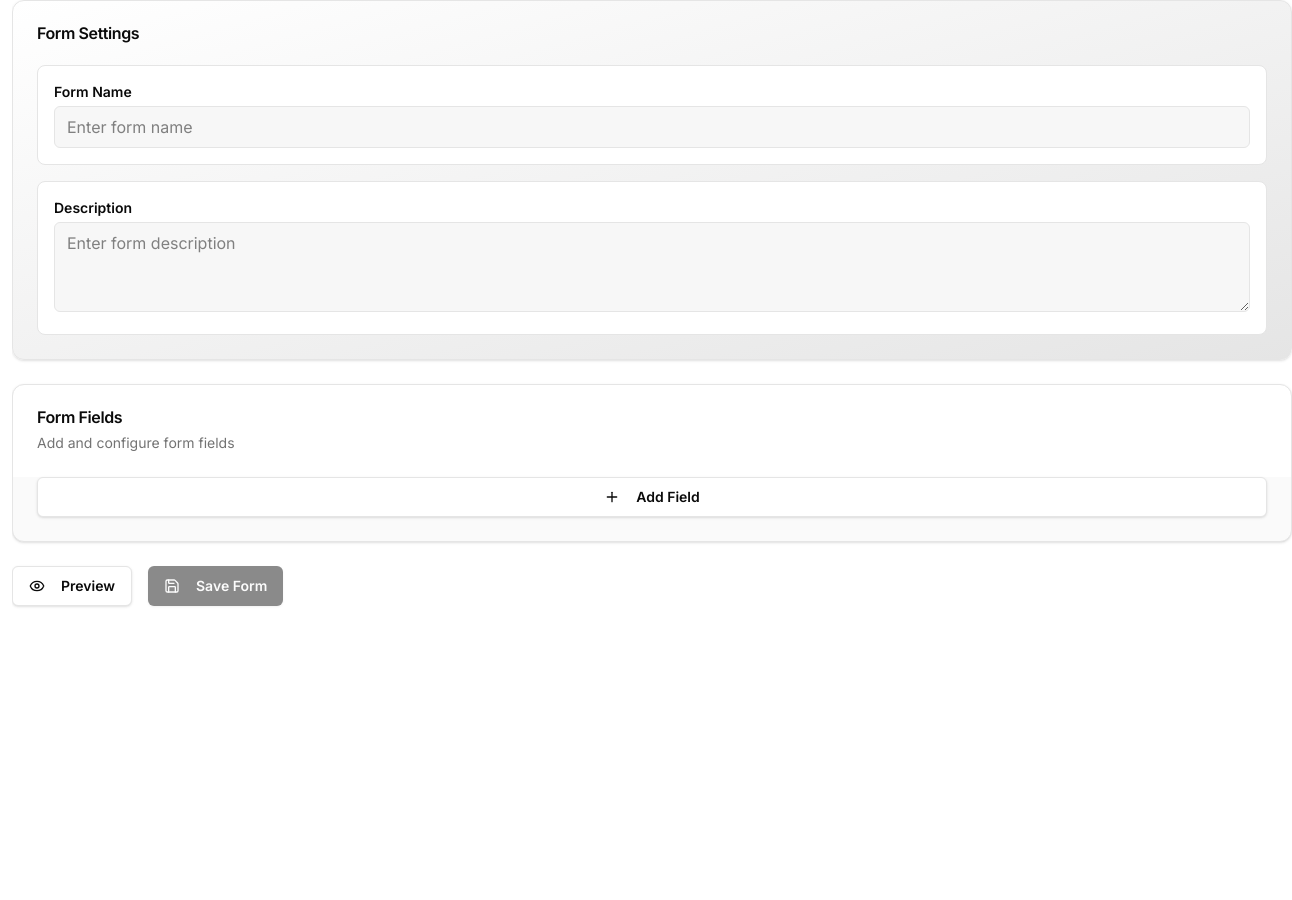
Test: FormBuilderUI › Save Functionality › save button is enabled when form has name and fields
The width and height of the screenshot is (1292, 900).
In the field with placeholder "Enter form name": [652, 127] box top-left (54, 106), bottom-right (1250, 148), type "Test Form"
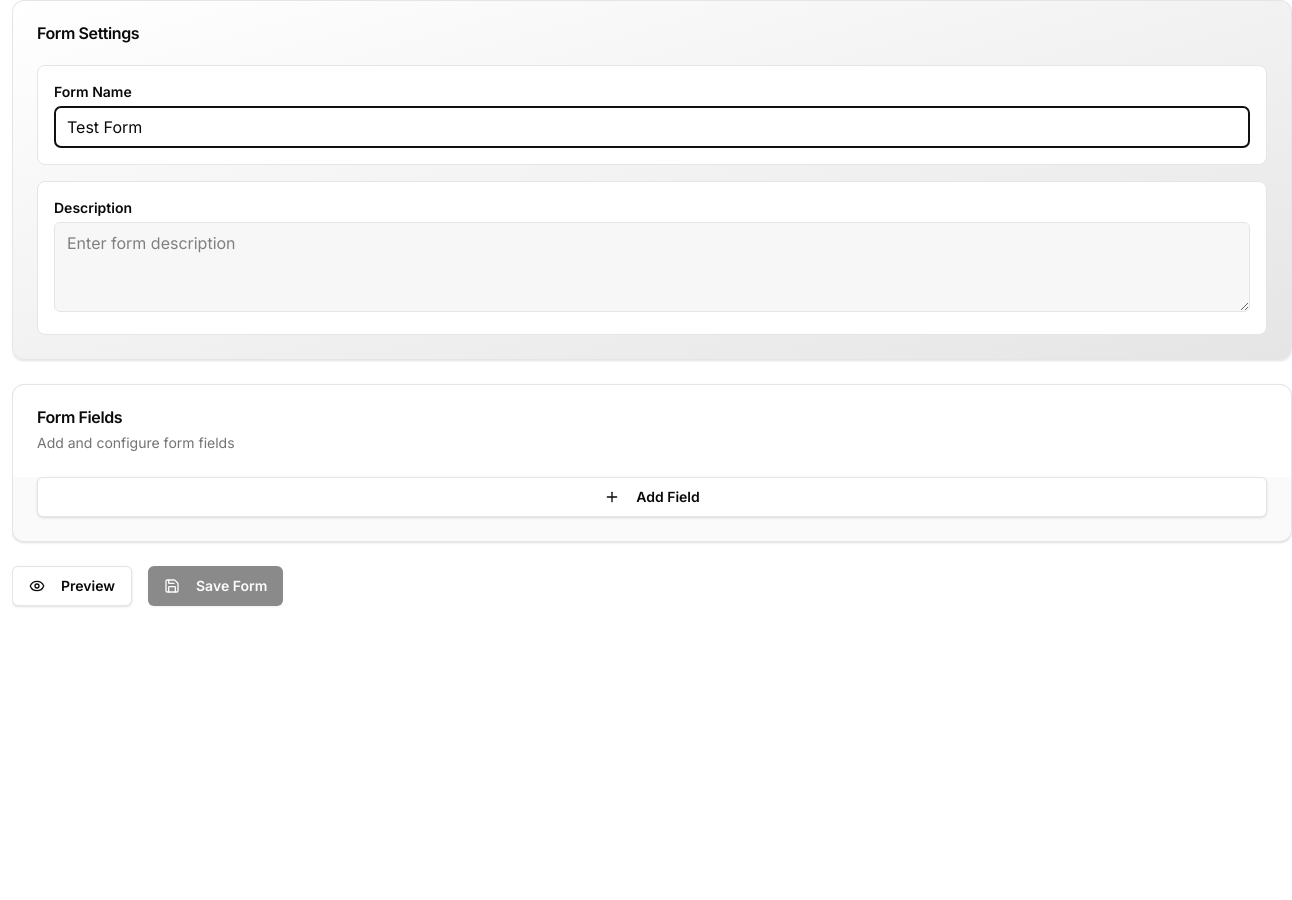
Click the button "Add Field": [652, 497] box top-left (37, 477), bottom-right (1267, 517)
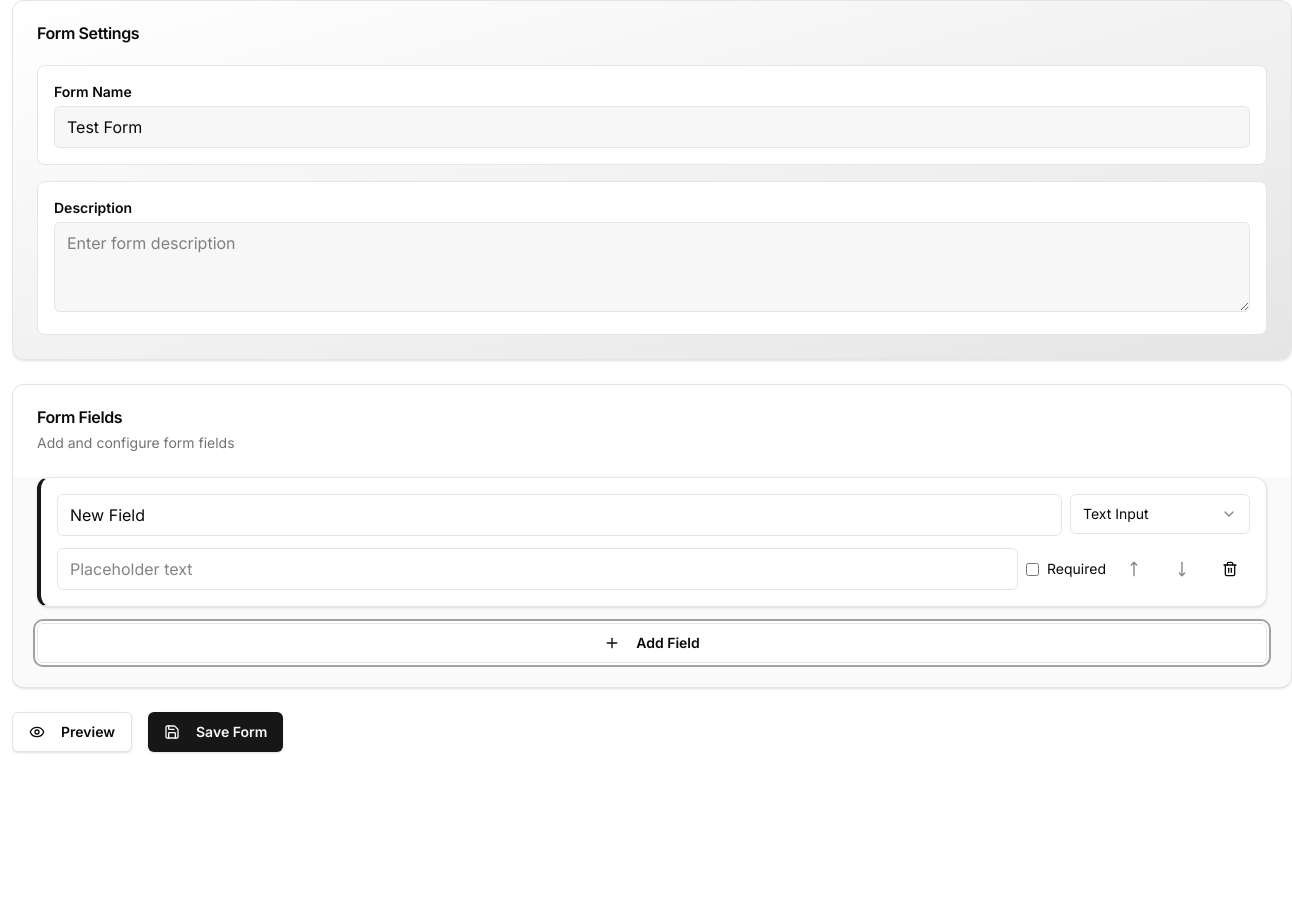
Expected: the button "Save Form" is enabled, top-left (148, 712), bottom-right (283, 752)
